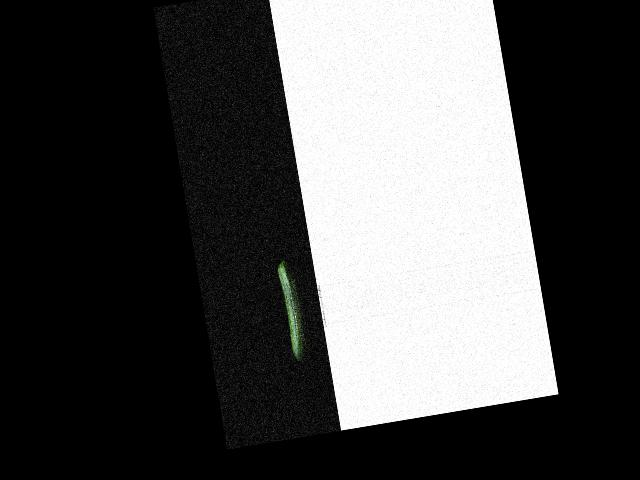cucumber: (277, 258, 309, 362)
